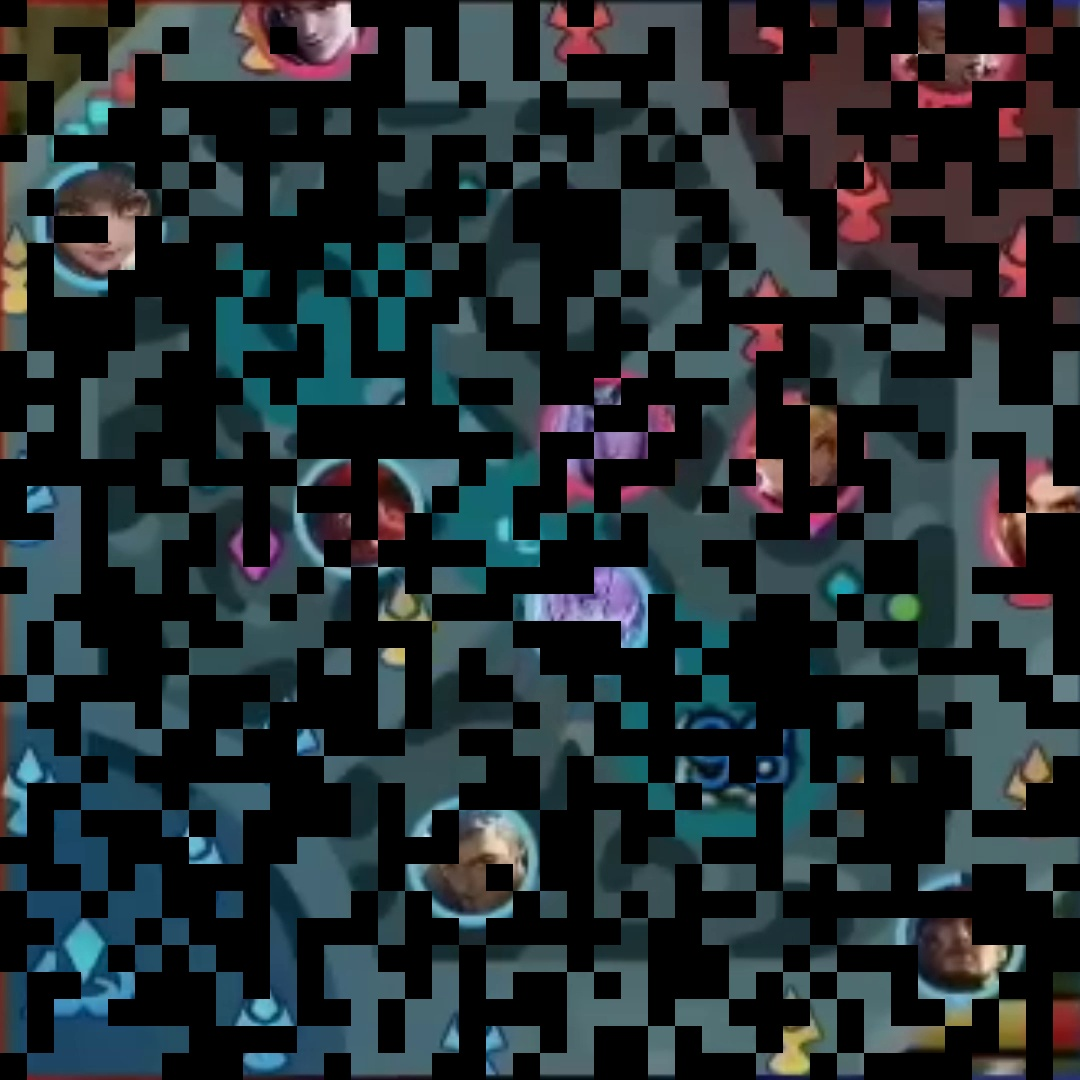Chou: (912, 4, 993, 87)
Claude: (55, 181, 155, 271), (273, 3, 357, 60)
Fanny: (765, 414, 840, 509)
Fredrinn: (429, 817, 515, 907)
Lapu-Lapu: (929, 893, 999, 985)
Masha: (1015, 475, 1076, 571)
Minotaur: (318, 477, 401, 557)
Novaria: (547, 565, 629, 657)
Valentina: (562, 387, 654, 485)
